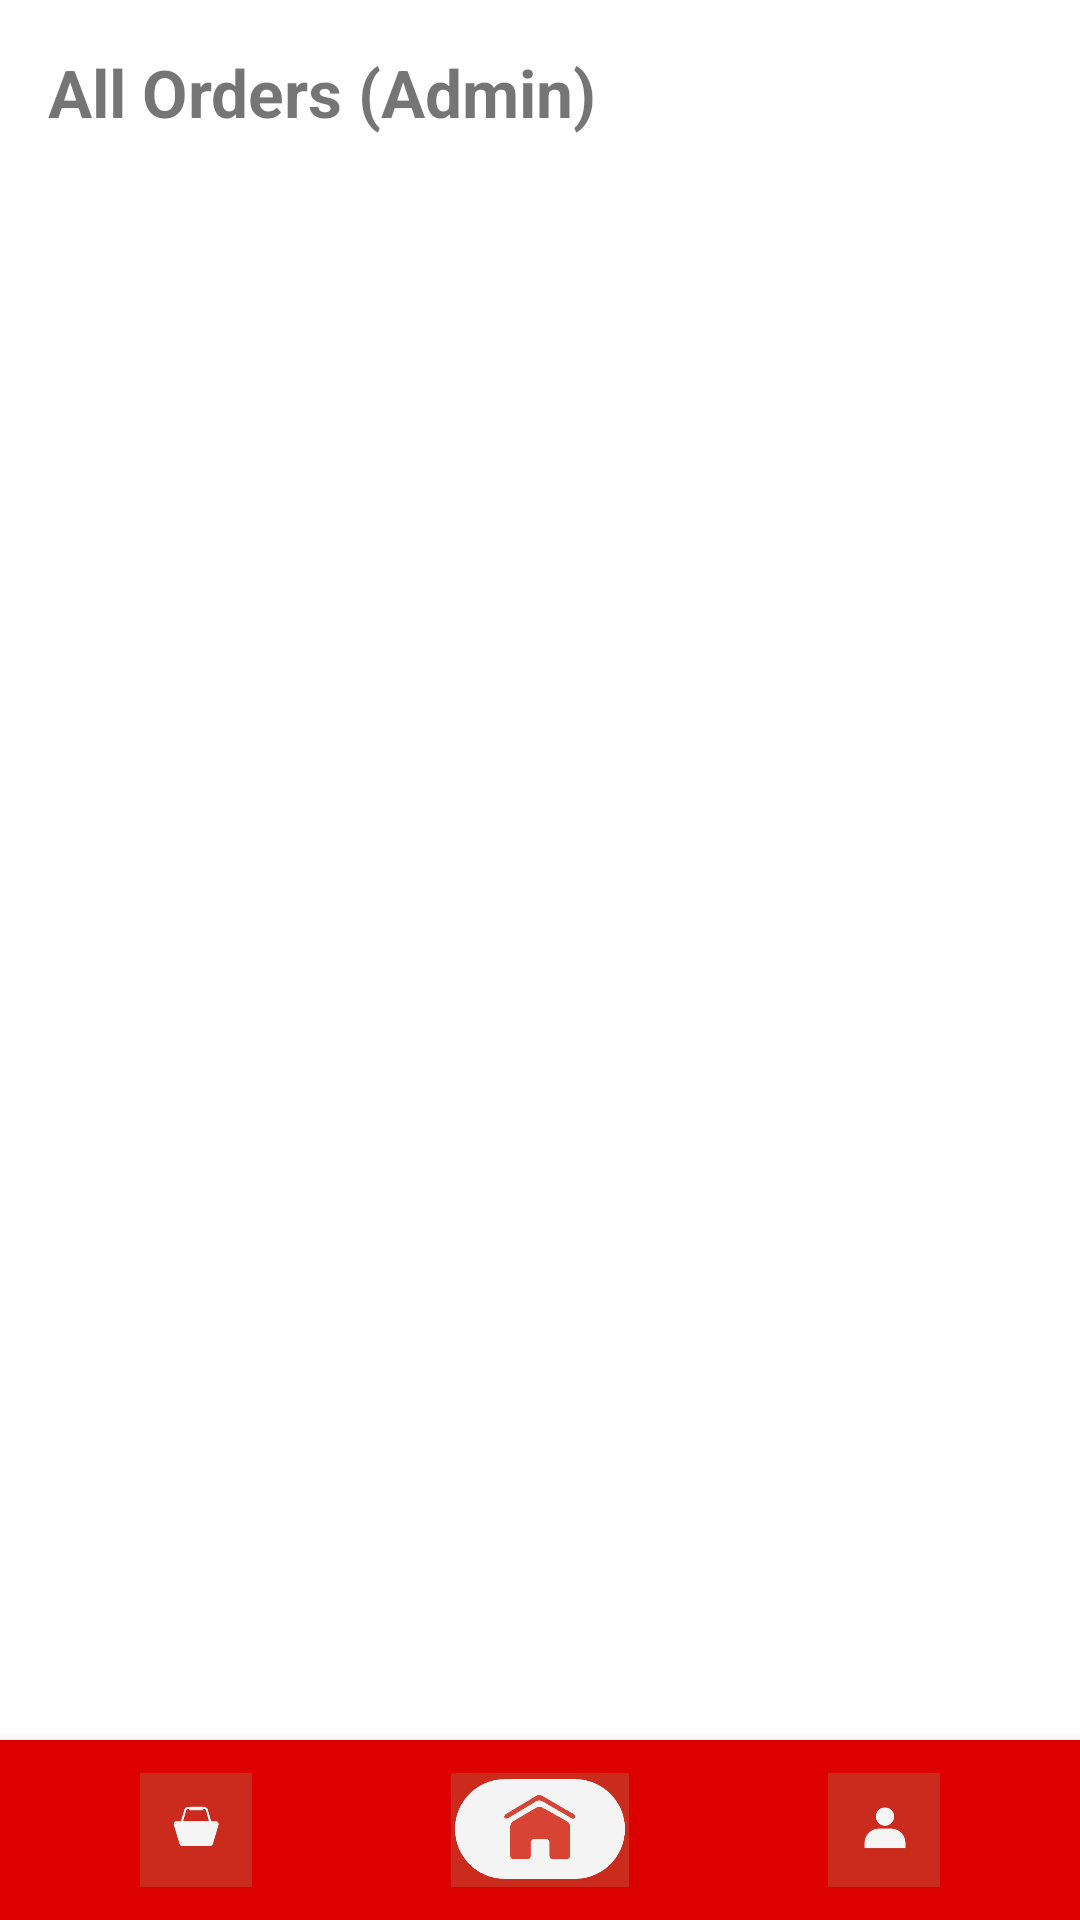

Locate icon controls on the screen. Image size 1080px×1920px, boxes as bbox=[x1, y1, x2, y2].
Home: bbox=[451, 1773, 629, 1887]
